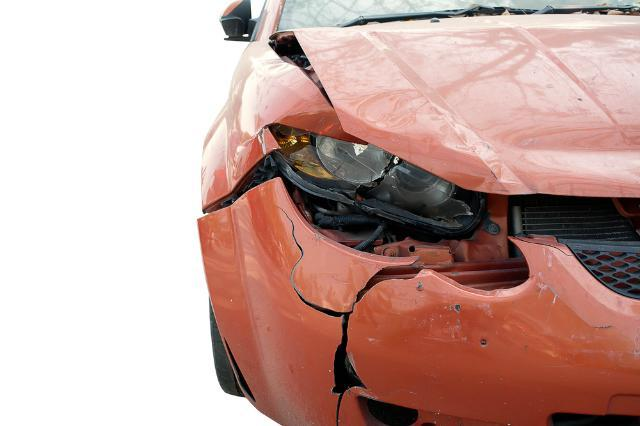crack: (270, 205, 423, 426), (511, 237, 577, 259)
dent: (361, 93, 640, 189)
dislocated part: (198, 153, 640, 426)
lamp broken: (274, 125, 485, 231)
